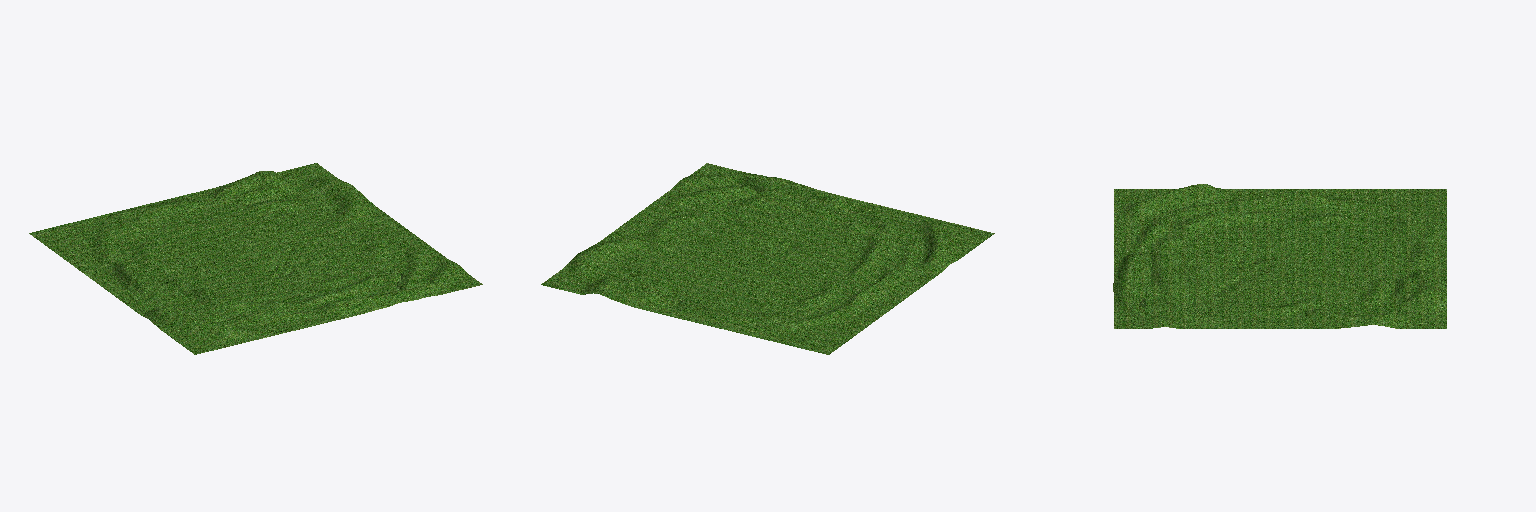
The picture shows the model from 3 angles: view 1: azimuth 30°, elevation 25°; view 2: azimuth 150°, elevation 25°; view 3: azimuth 270°, elevation 25°; orthographic projection.
Visible parts, largest first — view 1: Plane; view 2: Plane; view 3: Plane.
Boxes of the visible parts, x1=… form: Plane: x1=29, y1=163, x2=482, y2=354; Plane: x1=541, y1=163, x2=994, y2=354; Plane: x1=1113, y1=184, x2=1446, y2=328.
Size of the model in its own units: 776 by 40.07 by 778.
1 materials, 1 textured.